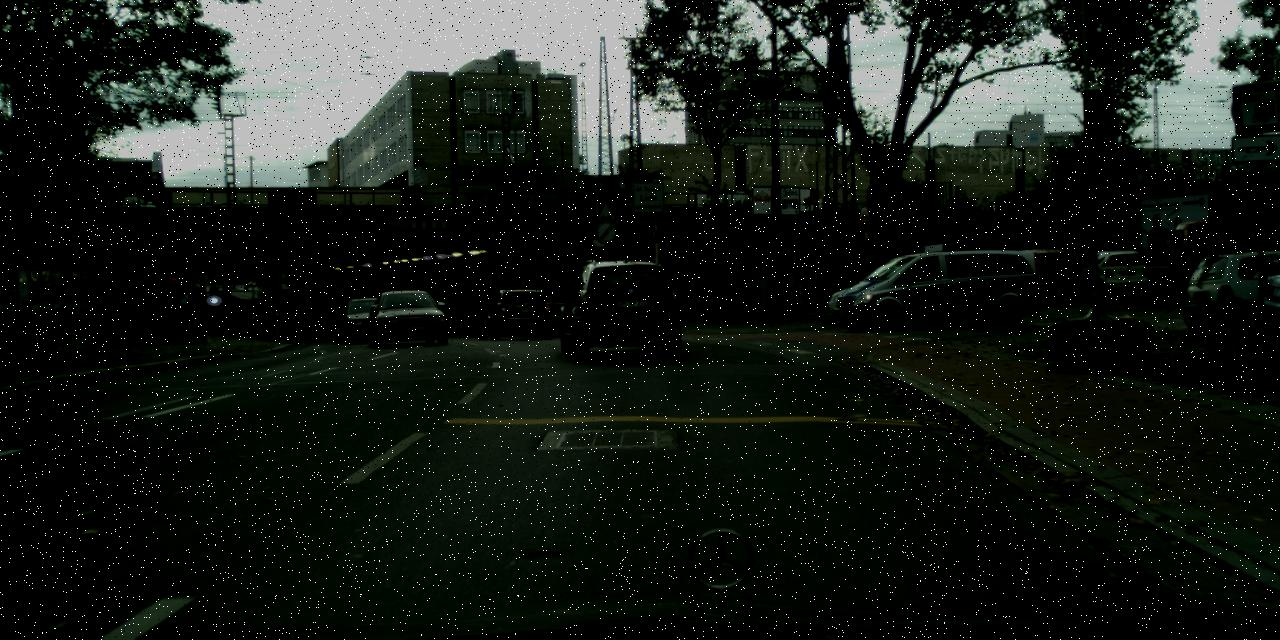ped: (151, 281, 176, 342), (186, 284, 210, 342), (169, 285, 191, 341)
